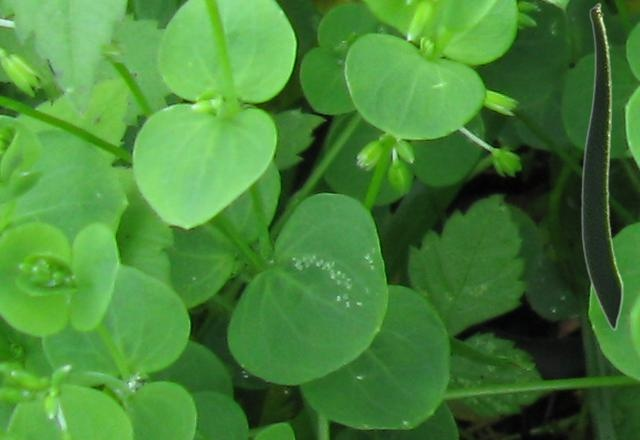french_bean: (580, 2, 623, 330)
